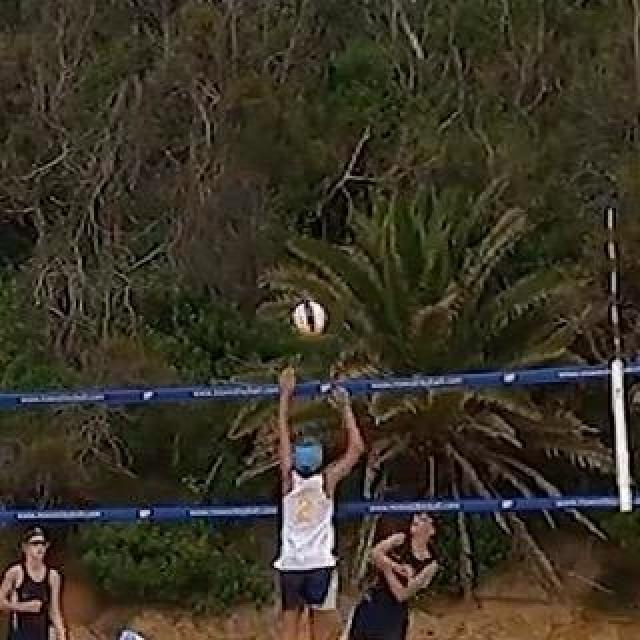volleyball: (294, 301, 330, 335)
